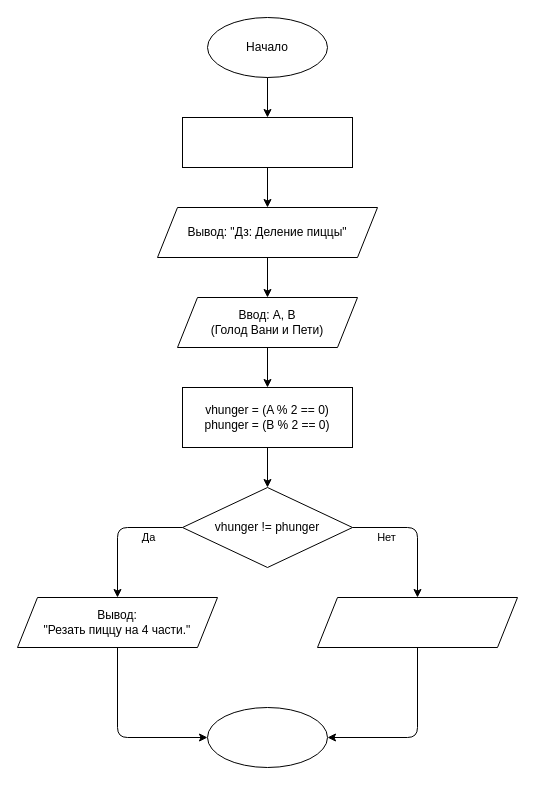
Image size: 535x785. Some labels were removed from this diagram. The shapes that lost their labels are listed below. From the top down, each one's box as (x1, y1, x2, y2) in pixels, then its label:
(182, 116, 352, 168): setlocale(LC_ALL, ".UTF8")
(316, 596, 518, 648): Вывод: "Резать пиццу на 6 частей."
(206, 706, 328, 768): Конец
